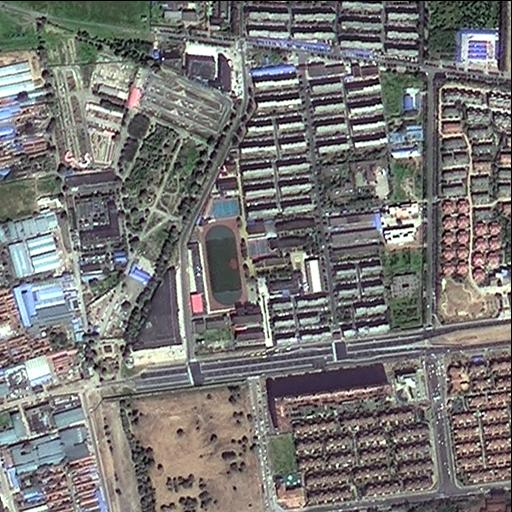school: (186, 172, 322, 355)
